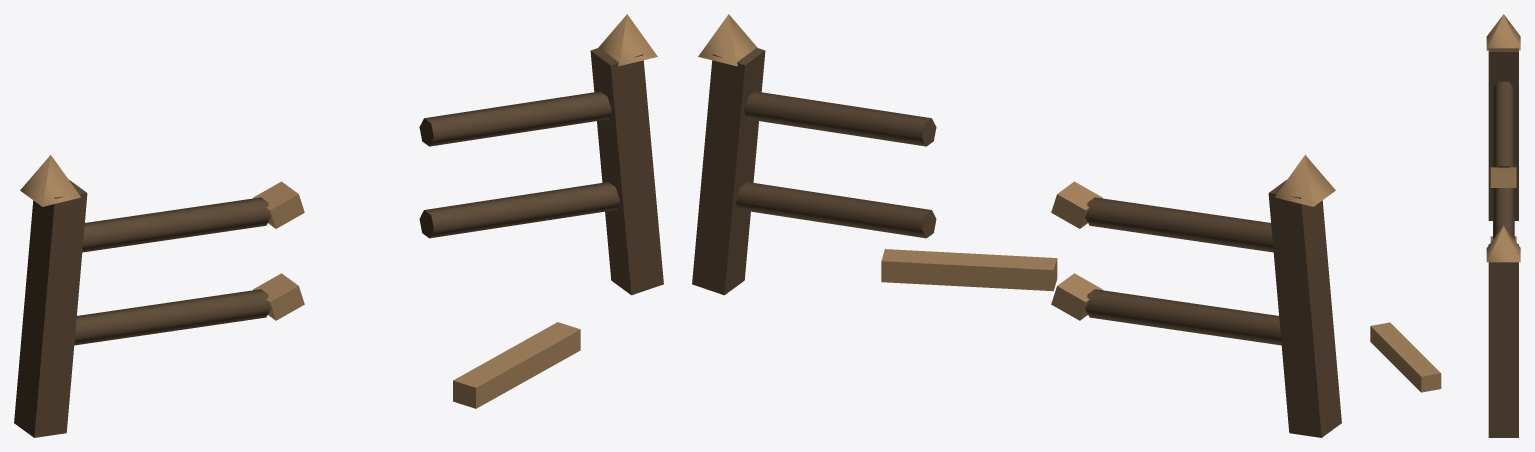
The model's file is cut-fence.glb.
3 renders of one model, left to right at view 1: azimuth 30°, elevation 25°; view 2: azimuth 150°, elevation 25°; view 3: azimuth 270°, elevation 25°, orthographic. The views are drawn at different scales.
Parts seen in each view (by area): view 1: cut-fence; view 2: cut-fence; view 3: cut-fence.
Boxes of the visible parts, box(x1,y1,x2,y2) form: cut-fence: box(14, 14, 663, 437); cut-fence: box(692, 14, 1341, 437); cut-fence: box(1370, 14, 1520, 437).
Bounding box in the file's own units: 2.51 × 1.04 × 0.6907.
